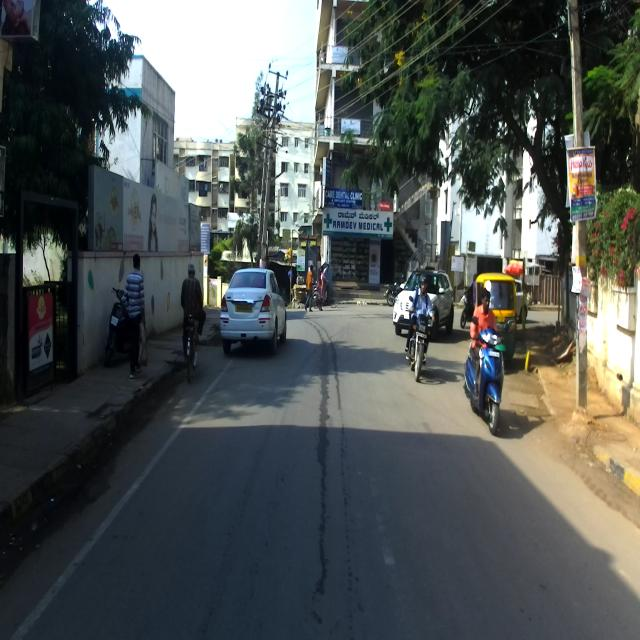car ahead at: (222, 261, 286, 360)
electric pole ahead at: (555, 0, 607, 437)
motorcycle ahead at: (466, 322, 509, 445), (408, 315, 434, 377)
person ahead at: (122, 249, 150, 377)
